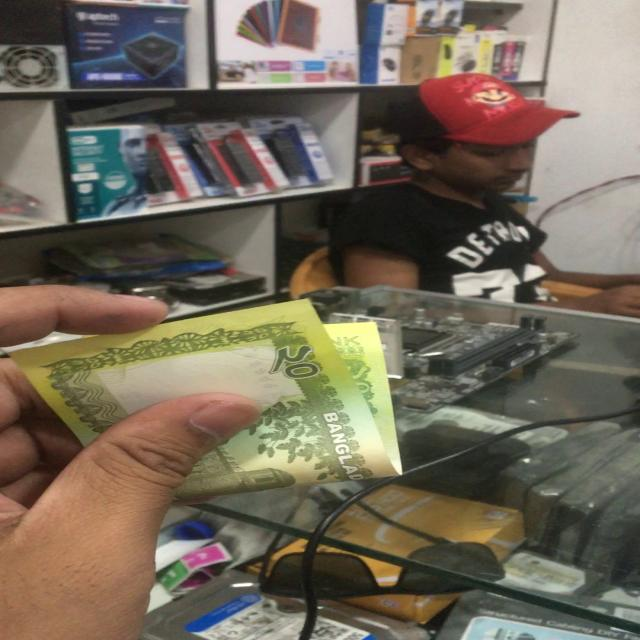Taka: (31, 314, 412, 481)
